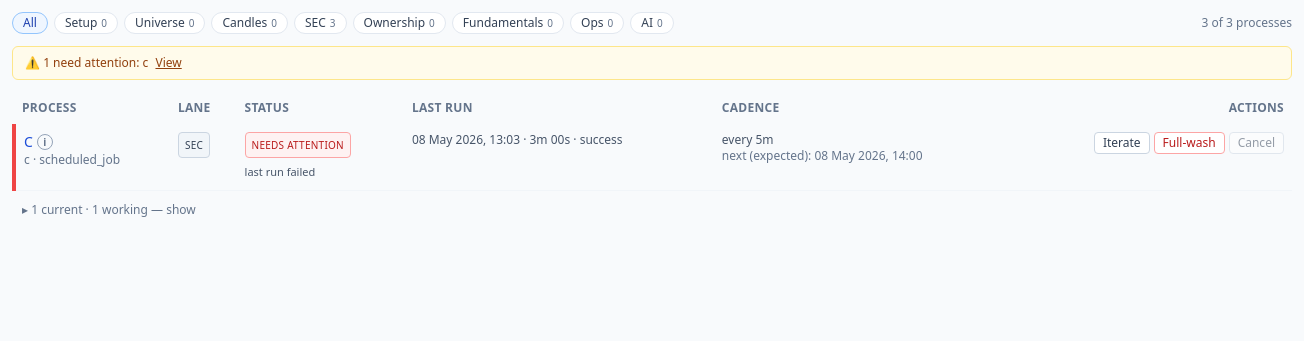
Test: ProcessesTable › renders a row per process with correct status pill
Click the button "▸ 1 current · 1 working — show" at (109, 210), box x1=22 y1=202 x2=196 y2=218
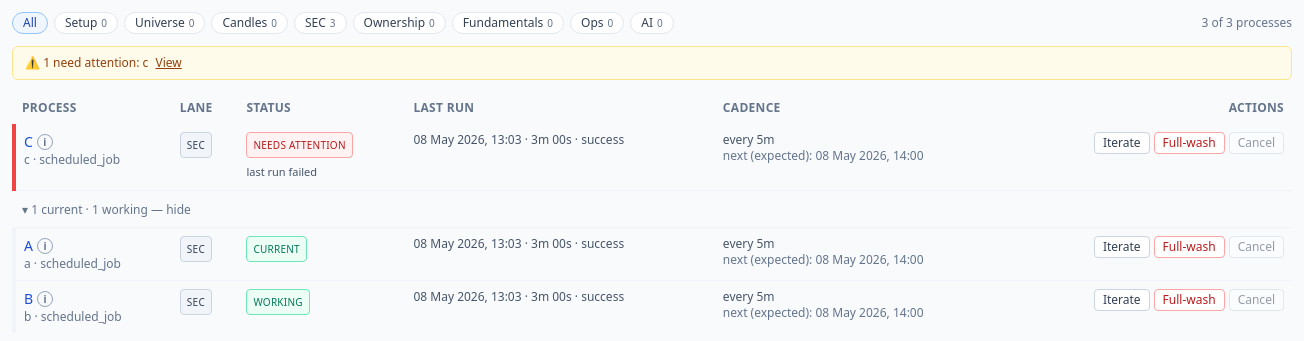
Expected: the link "C" is shown, x1=24 y1=132 x2=33 y2=152
Expected: the link "A" is shown, x1=24 y1=236 x2=33 y2=256
Expected: the link "B" is shown, x1=24 y1=289 x2=33 y2=309
